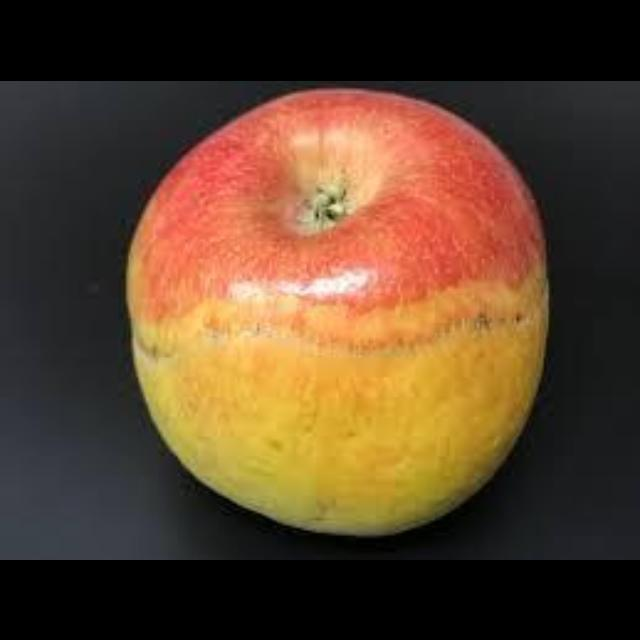apple: (128, 87, 546, 532)
